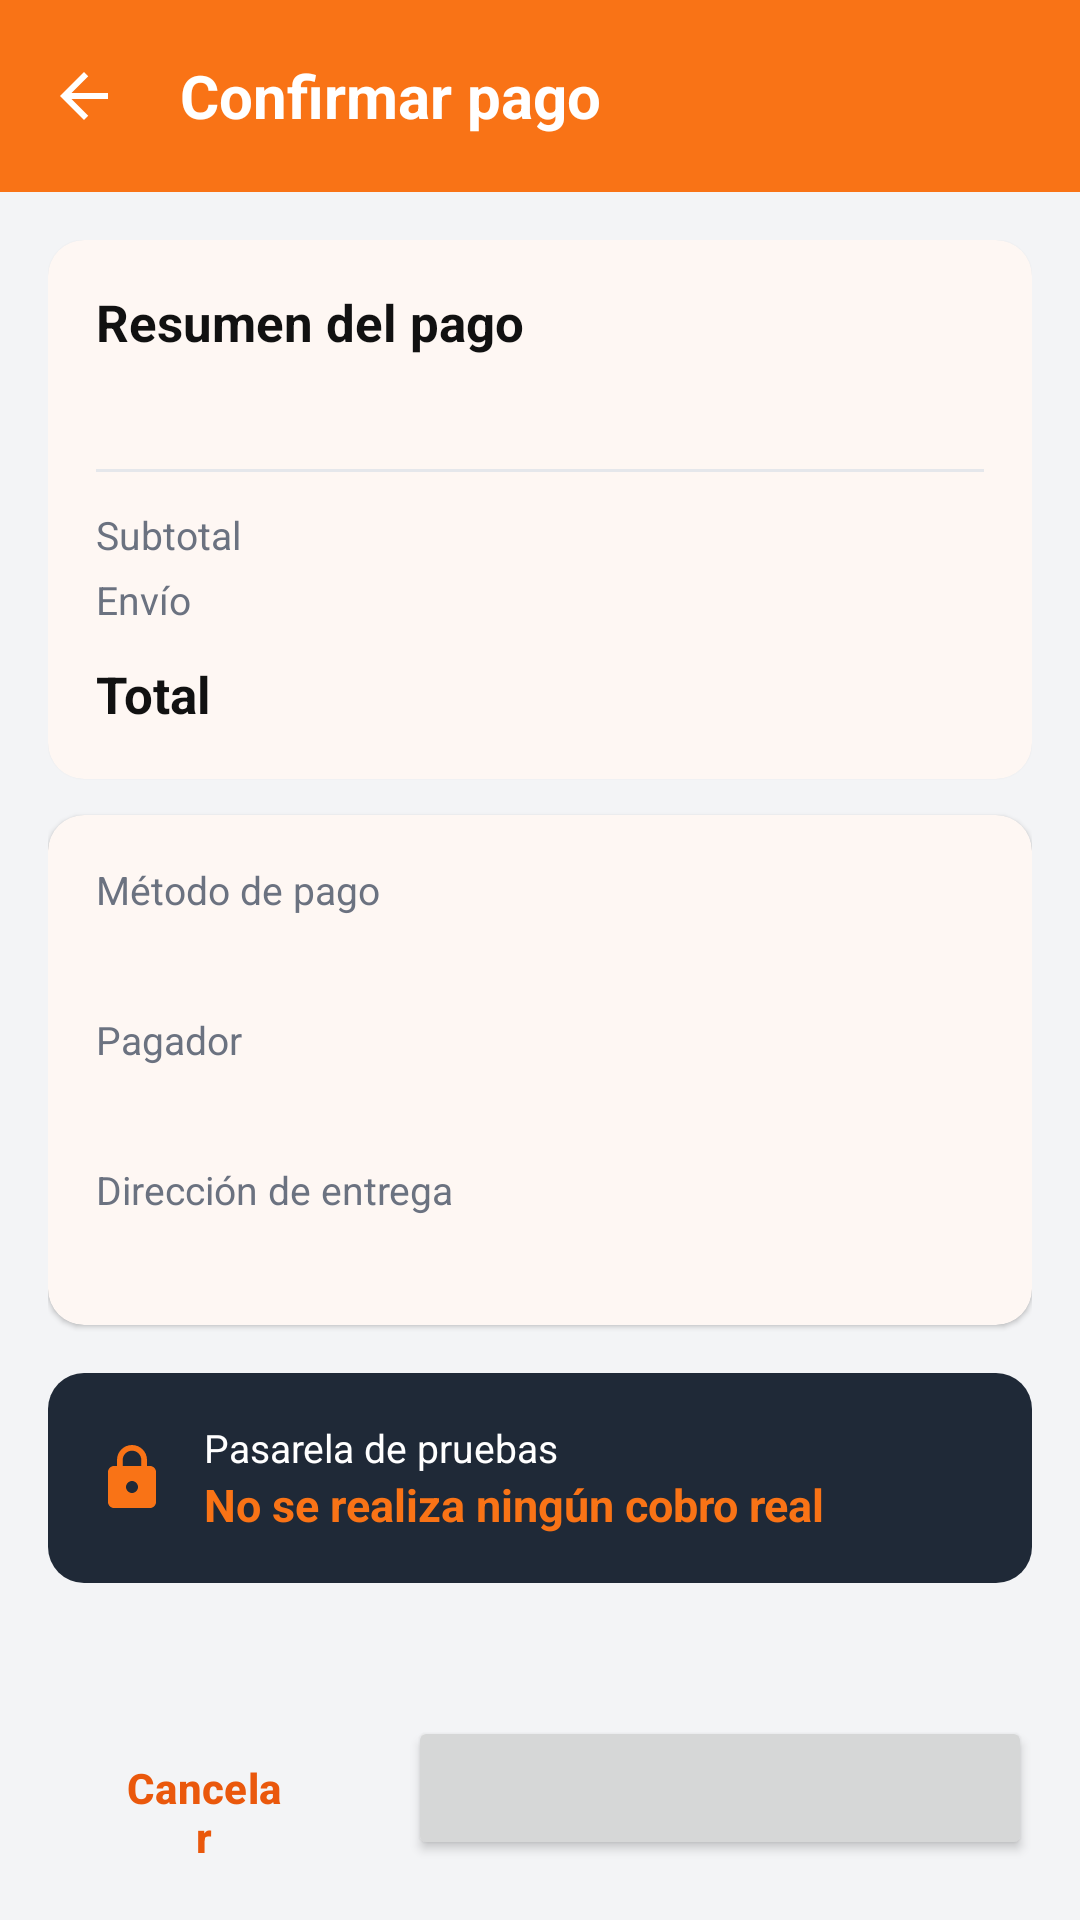

Named icons in this screenshot (1080x1920) and their centers, point (x, y):
lock: point (132, 1476)
